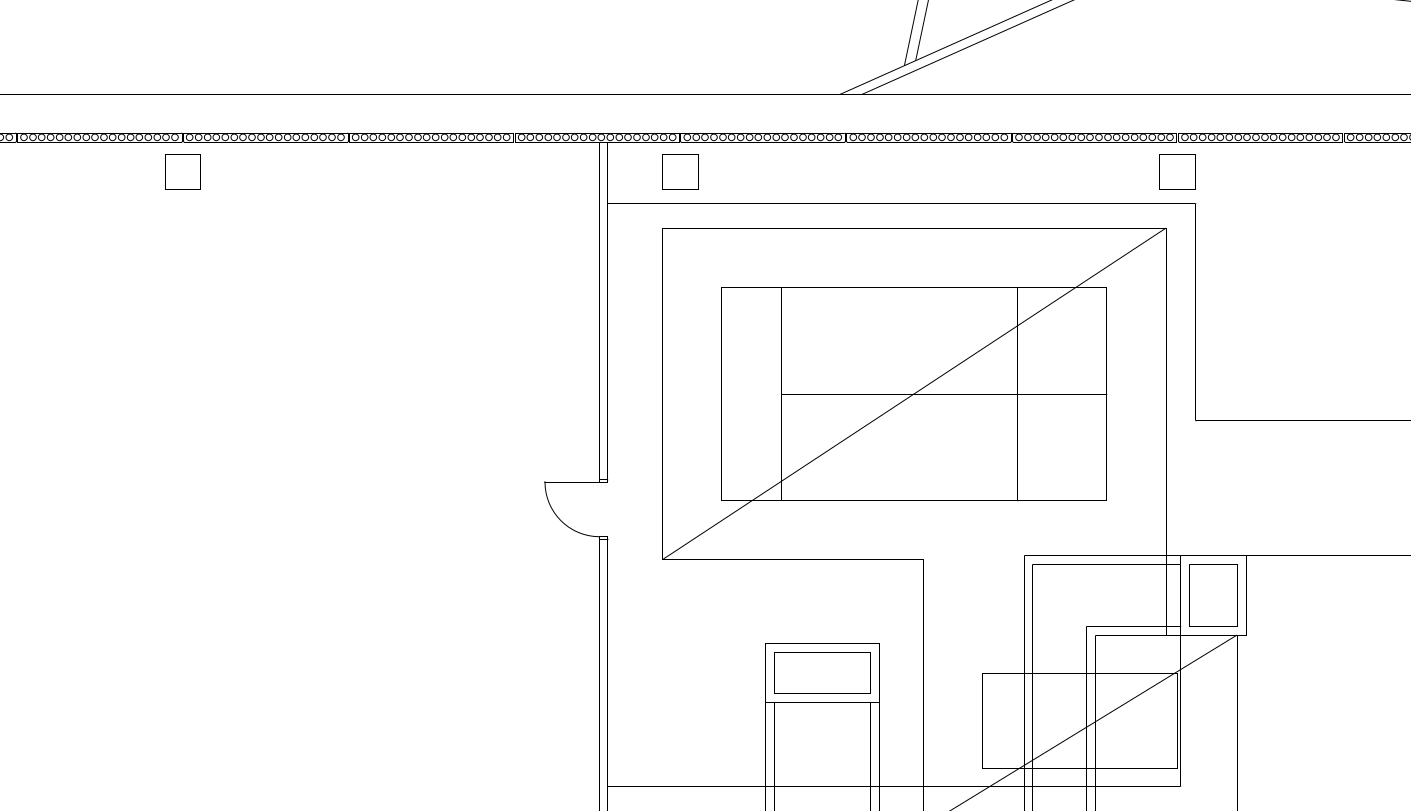door: (535, 477, 596, 544)
